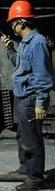boots: (0, 179, 16, 191), (7, 170, 26, 179)
gloves: (0, 34, 13, 48), (33, 105, 45, 120)
hard-hat: (0, 41, 12, 62)
ppe-suit: (0, 54, 28, 183)
